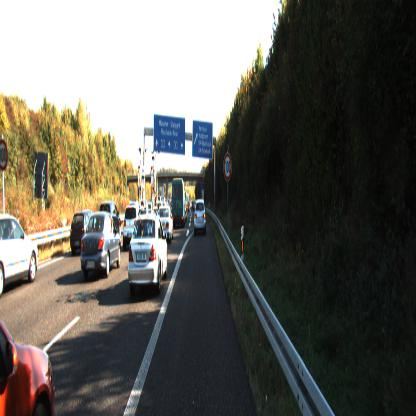car: (2, 214, 41, 298), (128, 227, 169, 301), (81, 212, 124, 281), (72, 213, 95, 257), (158, 207, 175, 244)
